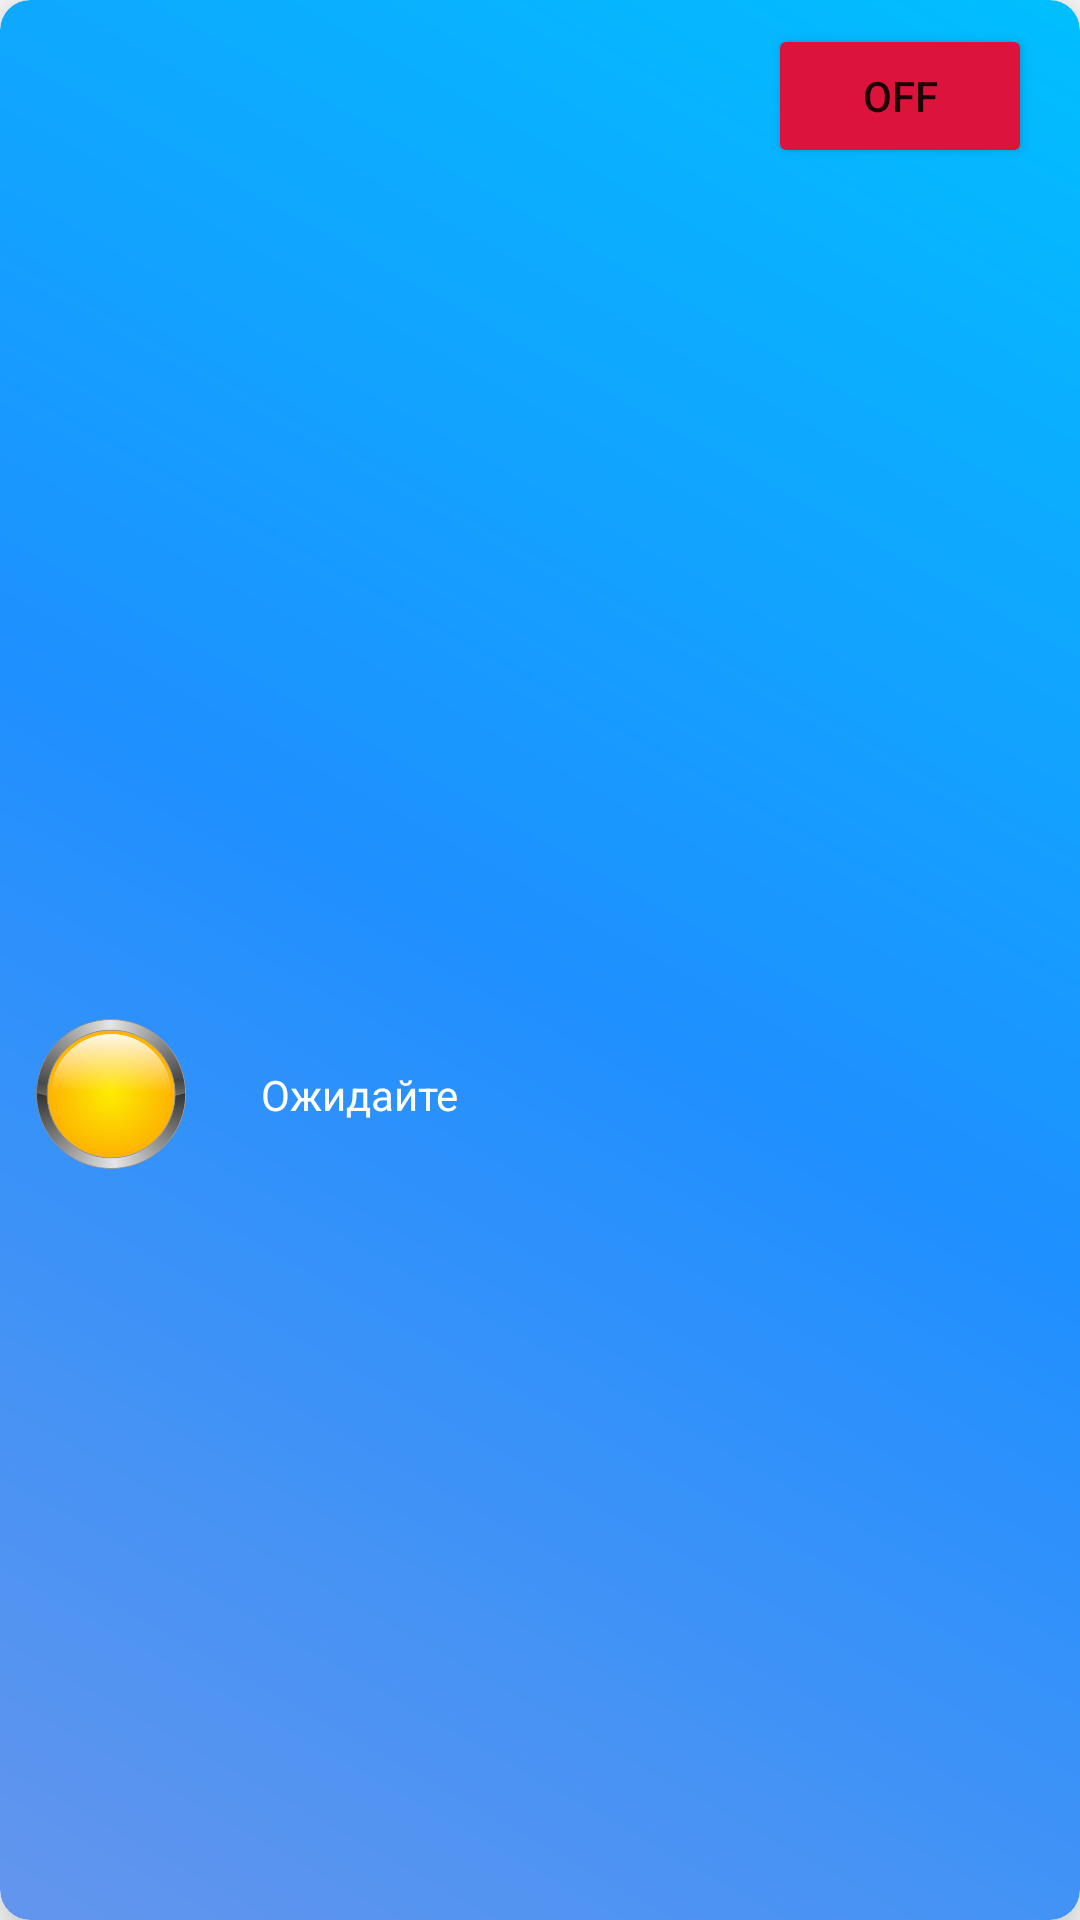

Icon bounding boxes for this 1080px x 1920px phone screenshot, format (x1, y1, x2, y2):
yell indicator: (36, 1019, 186, 1169)
